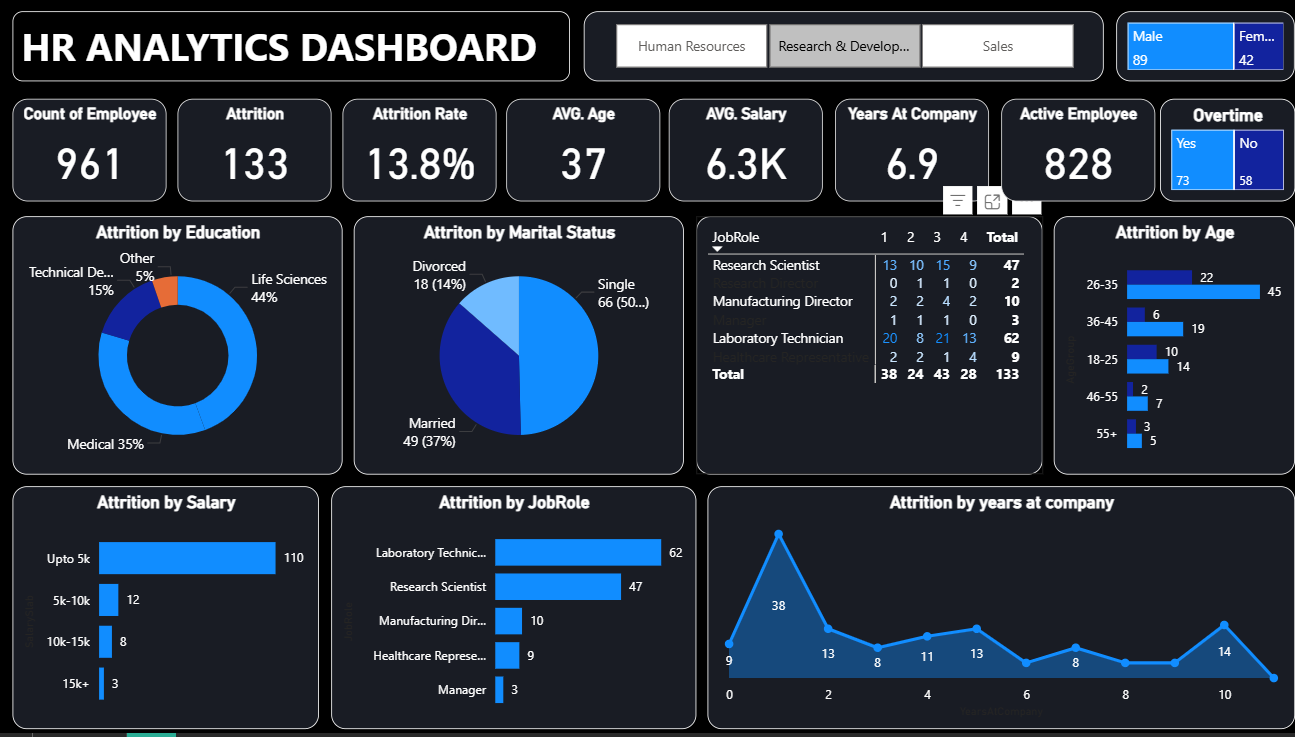

The page's visual inventory and layout, read from the dashboard file:
{"tool":"powerbi","page":{"name":"Page 1","canvas":[1280,720],"ordinal":0},"visuals":[{"type":"card","title":"Count of Employee","fields":{"Values":["CountNonNull(HR_Analytics.EmpID)"]},"box":[12.3,96.9,150.9,100.6],"z":0},{"type":"card","title":"Attrition","fields":{"Values":["Sum(HR_Analytics.AttritonCount)"]},"box":[174.2,96.9,150.9,100.6],"z":1000},{"type":"card","title":"AVG. Age","fields":{"Values":["Avg(HR_Analytics.Age)"]},"box":[496.9,96.9,150.9,100.6],"z":2000},{"type":"card","title":"Attrition Rate","fields":{"Values":["HR_Analytics.AttririonRate"]},"box":[336.2,96.9,150.9,100.6],"z":3000},{"type":"textbox","box":[12.3,11,547.5,68.6],"z":4000},{"type":"card","title":"AVG. Salary","fields":{"Values":["Avg(HR_Analytics.MonthlyIncome)"]},"box":[656.4,96.9,150.9,100.6],"z":5000},{"type":"card","title":"Years At Company","fields":{"Values":["Avg(HR_Analytics.YearsAtCompany)"]},"box":[819.6,96.9,150.9,100.6],"z":6000},{"type":"donutChart","title":"Attrition by Education","fields":{"Y":["Sum(HR_Analytics.AttritonCount)"],"Category":["HR_Analytics.EducationField"]},"box":[12.3,212.3,323.9,254],"z":7000},{"type":"clusteredBarChart","title":"Attrition by Age","fields":{"Category":["HR_Analytics.AgeGroup"],"Y":["Sum(HR_Analytics.AttritonCount)"],"Series":["HR_Analytics.Gender"]},"box":[1034.4,212.3,236.8,254],"z":8000},{"type":"pivotTable","fields":{"Rows":["HR_Analytics.JobRole"],"Columns":["HR_Analytics.JobSatisfaction"],"Values":["Sum(HR_Analytics.AttritonCount)"]},"box":[683.4,212.3,339.9,254],"z":9000},{"type":"barChart","title":"Attrition by Salary","fields":{"Category":["HR_Analytics.SalarySlab"],"Y":["Sum(HR_Analytics.AttritonCount)"]},"box":[12.3,477.3,300.6,238],"z":10000},{"type":"barChart","title":"Attrition by JobRole","fields":{"Y":["Sum(HR_Analytics.AttritonCount)"],"Category":["HR_Analytics.JobRole"]},"box":[325.2,477.3,358.3,238],"z":11000},{"type":"stackedAreaChart","title":"Attrition by years at company","fields":{"Category":["HR_Analytics.YearsAtCompany"],"Y":["Sum(HR_Analytics.AttritonCount)"]},"box":[694.5,477.3,576.7,238],"z":12000},{"type":"treemap","title":"Attrition by Age","fields":{"Group":["HR_Analytics.Gender"],"Values":["Sum(HR_Analytics.AttritonCount)"]},"box":[1095.7,11,175.5,68.7],"z":13000},{"type":"slicer","title":"Attrition by Age","fields":{"Values":["HR_Analytics.Department"]},"box":[573,11,510.4,68.7],"z":14000},{"type":"pieChart","title":"Attriton by Marital Status","fields":{"Category":["HR_Analytics.MaritalStatus"],"Y":["Sum(HR_Analytics.AttritonCount)"]},"box":[347.2,212.3,323.9,254],"z":15000},{"type":"treemap","title":"Overtime","fields":{"Group":["HR_Analytics.OverTime"],"Values":["Sum(HR_Analytics.AttritonCount)"]},"box":[1138.7,96.9,132.5,100.6],"z":16000},{"type":"card","title":"Active Employee","fields":{"Values":["HR_Analytics.Active Employee"]},"box":[982.8,96.9,150.9,100.6],"z":16001}]}

Visuals, with their boxes in screenshot pixels (x1, y1, x2, y2), scaled from the page's 1280x720 canvas onto the 1295x737 screenshot:
"Count of Employee" card: region(12, 99, 165, 202)
"Attrition" card: region(176, 99, 329, 202)
"AVG. Age" card: region(503, 99, 655, 202)
"Attrition Rate" card: region(340, 99, 493, 202)
textbox: region(12, 11, 566, 81)
"AVG. Salary" card: region(664, 99, 817, 202)
"Years At Company" card: region(829, 99, 982, 202)
"Attrition by Education" donutChart: region(12, 217, 340, 477)
"Attrition by Age" clusteredBarChart: region(1047, 217, 1286, 477)
pivotTable - HR_Analytics.JobRole x HR_Analytics.JobSatisfaction: region(691, 217, 1035, 477)
"Attrition by Salary" barChart: region(12, 489, 317, 732)
"Attrition by JobRole" barChart: region(329, 489, 692, 732)
"Attrition by years at company" stackedAreaChart: region(703, 489, 1286, 732)
"Attrition by Age" treemap: region(1109, 11, 1286, 82)
"Attrition by Age" slicer: region(580, 11, 1096, 82)
"Attriton by Marital Status" pieChart: region(351, 217, 679, 477)
"Overtime" treemap: region(1152, 99, 1286, 202)
"Active Employee" card: region(994, 99, 1147, 202)
